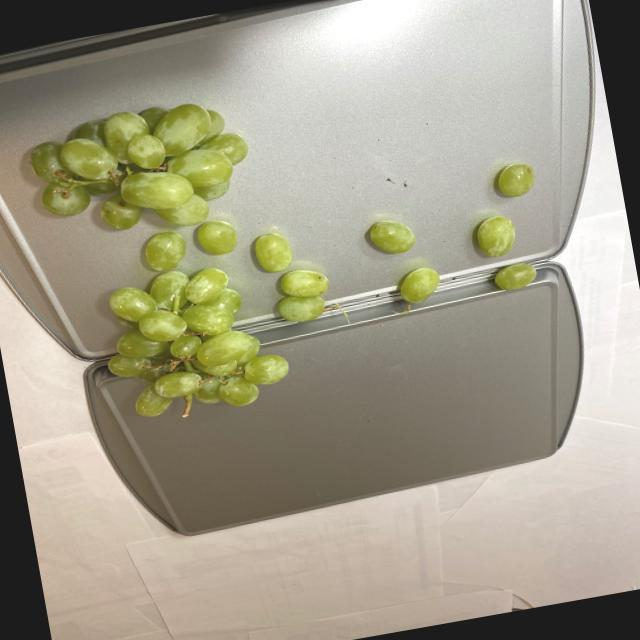grapes: (19, 85, 343, 437), (359, 169, 552, 316)
